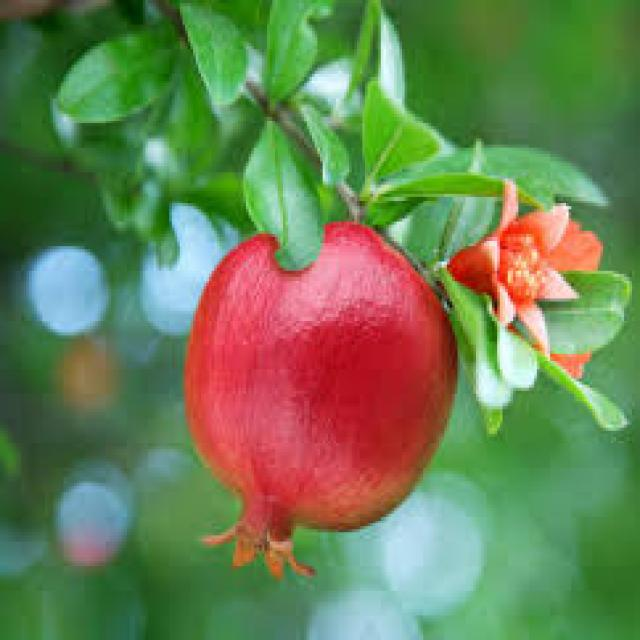Pomegranate: (182, 217, 464, 583)
